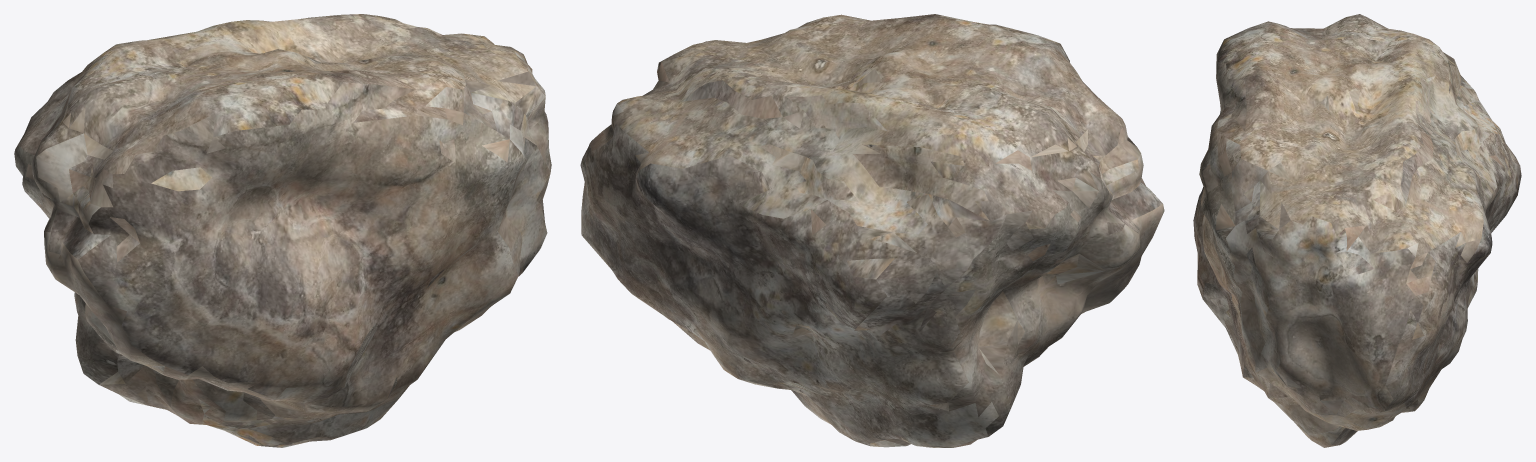
File: rock_3.obj
The picture shows the model from 3 angles, left to right: view 1: azimuth 30°, elevation 25°; view 2: azimuth 150°, elevation 25°; view 3: azimuth 270°, elevation 25°; orthographic projection. The views are drawn at different scales.
Visible parts, largest first — view 1: rock_3; view 2: rock_3; view 3: rock_3.
Boxes of the visible parts, x1,y1,x2,y2 form: rock_3: (14, 14, 551, 447); rock_3: (580, 14, 1164, 447); rock_3: (1193, 14, 1521, 447).
Bounding box in the file's own units: 3.49 × 2.54 × 2.14.
Materials: 1 (1 with a texture image).
